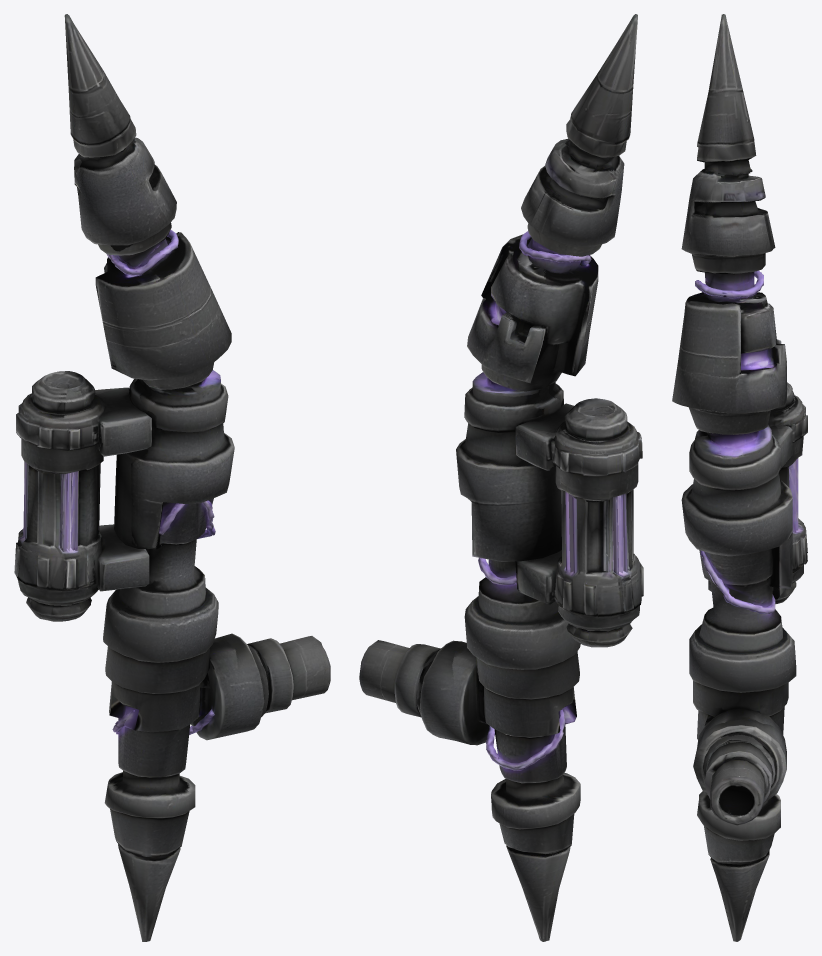
The model's file is relay-spire.glb.
3 renders of one model, left to right at view 1: azimuth 30°, elevation 25°; view 2: azimuth 150°, elevation 25°; view 3: azimuth 270°, elevation 25°, orthographic. The views are drawn at different scales.
Visible parts, largest first — view 1: tripo_node_cae88a4b-db73-4c67-beb2-2138063fe8bc; view 2: tripo_node_cae88a4b-db73-4c67-beb2-2138063fe8bc; view 3: tripo_node_cae88a4b-db73-4c67-beb2-2138063fe8bc.
Part boxes in pixels (<box>): tripo_node_cae88a4b-db73-4c67-beb2-2138063fe8bc: <box>14,14,330,941</box>; tripo_node_cae88a4b-db73-4c67-beb2-2138063fe8bc: <box>359,14,643,941</box>; tripo_node_cae88a4b-db73-4c67-beb2-2138063fe8bc: <box>672,14,807,941</box>.
Size of the model in its own units: 0.3105 by 0.998 by 0.1387.
1 material, 1 textured.
